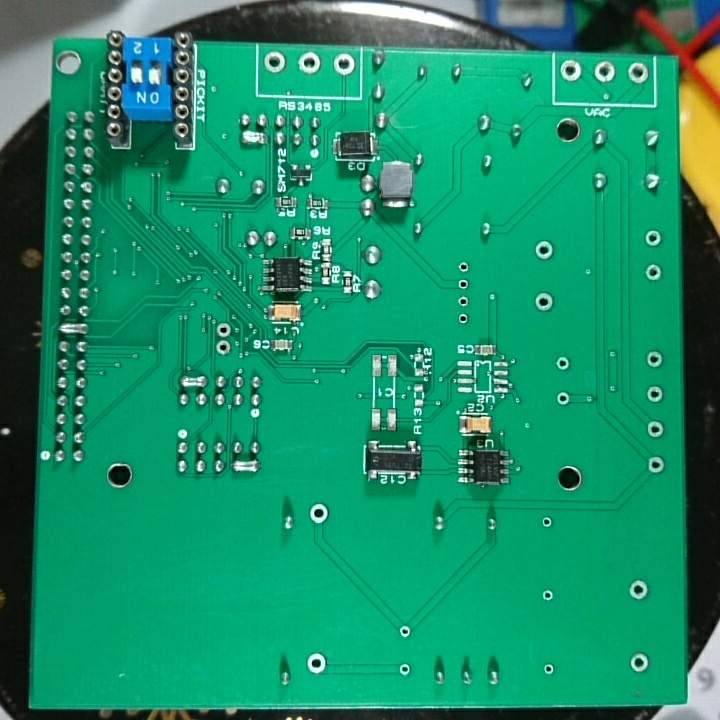F: (623, 60, 650, 88), (261, 49, 288, 77), (303, 649, 331, 675), (307, 500, 333, 528), (332, 51, 357, 79), (592, 60, 617, 86), (559, 58, 583, 84), (297, 51, 321, 76), (533, 239, 557, 263), (533, 289, 556, 314), (646, 453, 667, 480), (627, 651, 651, 673), (643, 349, 666, 371), (644, 384, 667, 406), (627, 579, 651, 599), (644, 418, 665, 438), (644, 260, 662, 283), (643, 229, 663, 249), (214, 319, 234, 339), (215, 339, 233, 359), (554, 388, 571, 409), (554, 353, 571, 372), (456, 258, 473, 277), (542, 660, 558, 680), (539, 512, 555, 531), (454, 293, 471, 309), (455, 276, 472, 292), (397, 624, 413, 640), (541, 588, 556, 605), (397, 659, 411, 677), (455, 312, 471, 327)
P: (230, 456, 261, 478), (238, 128, 268, 150), (177, 371, 208, 391), (56, 320, 90, 338)
